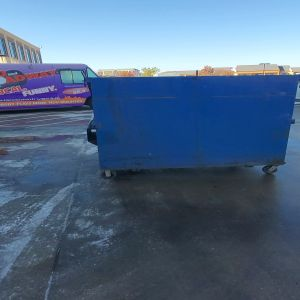Dumpster: (85, 77, 298, 181)
